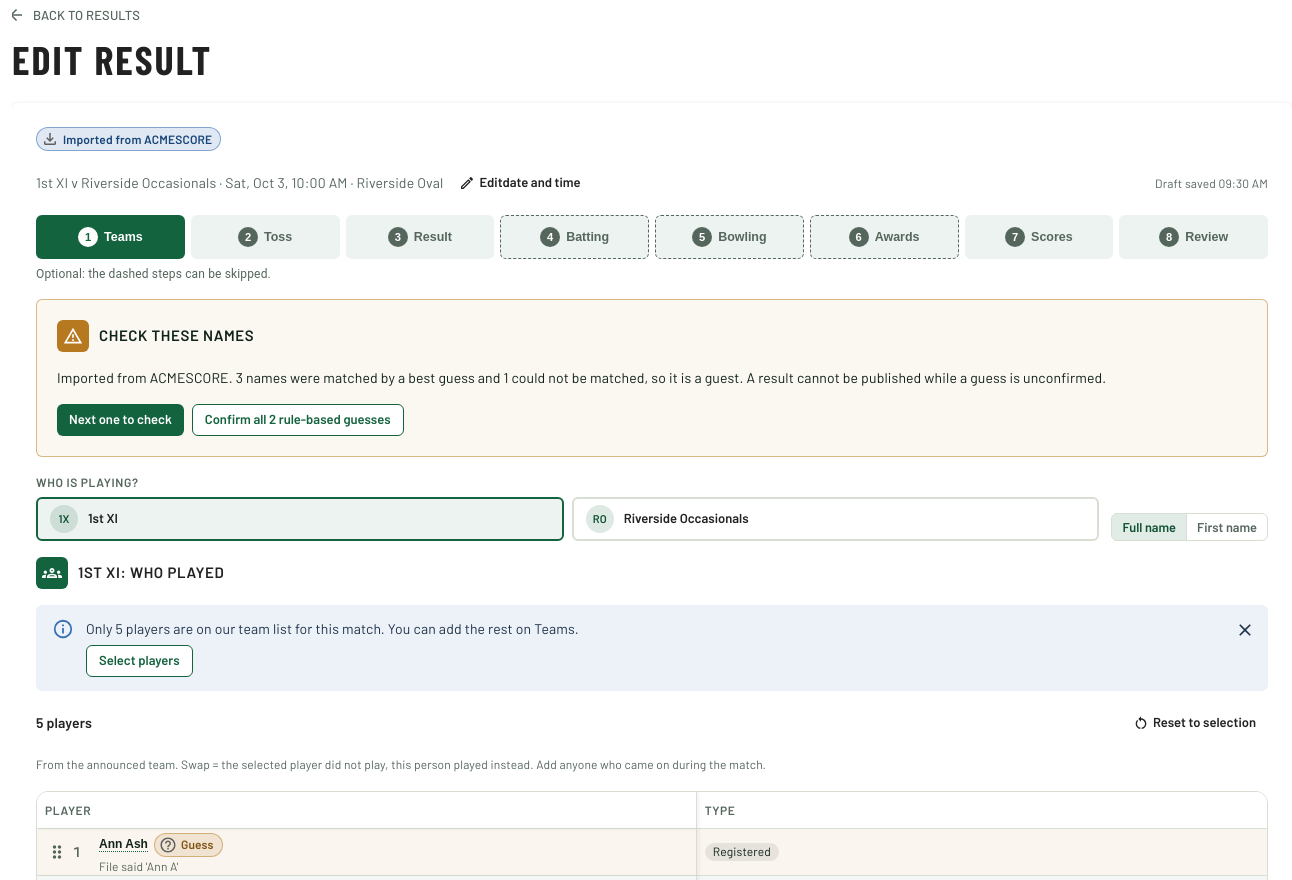
Scenario: an imported draft in the capture wizard › the toss warning › puts a warning card at the top of the Toss step naming the side the file had batting first
Expected: the heading "Edit result" is shown, [12, 35, 212, 83]
Expected: the element with test id "import-guess-banner" is shown, [36, 299, 1268, 457]
Step 1. Click the button "2 Toss" → [265, 237], box [191, 215, 340, 259]
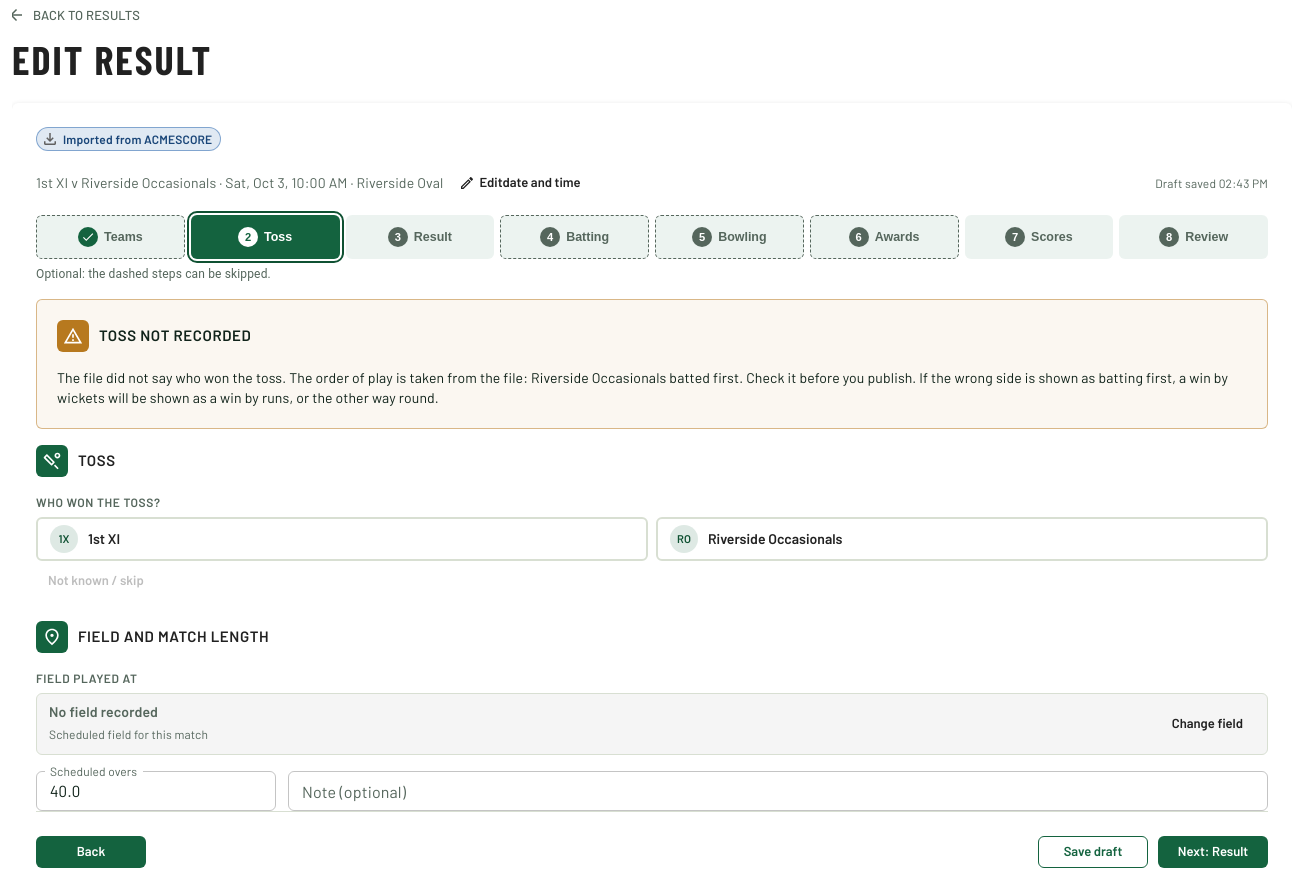
Result: the element with test id "import-toss-warning" shows "Toss not recorded" at [99, 326, 252, 344]
Result: the element with test id "import-toss-warning" shows "The file did not say who won the toss." at [57, 369, 289, 386]
Result: the element with test id "import-toss-warning" shows "batted first" at [289, 369, 746, 386]
